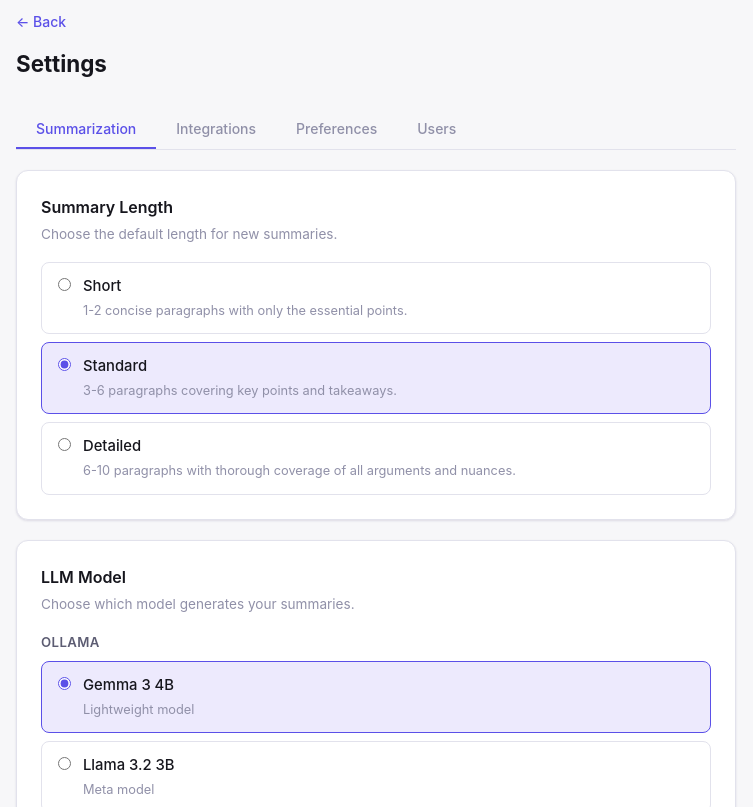
Test: Settings › should show users tab when isAdmin
Click the button "Users".
click(437, 129)  # box [397,110,476,149]
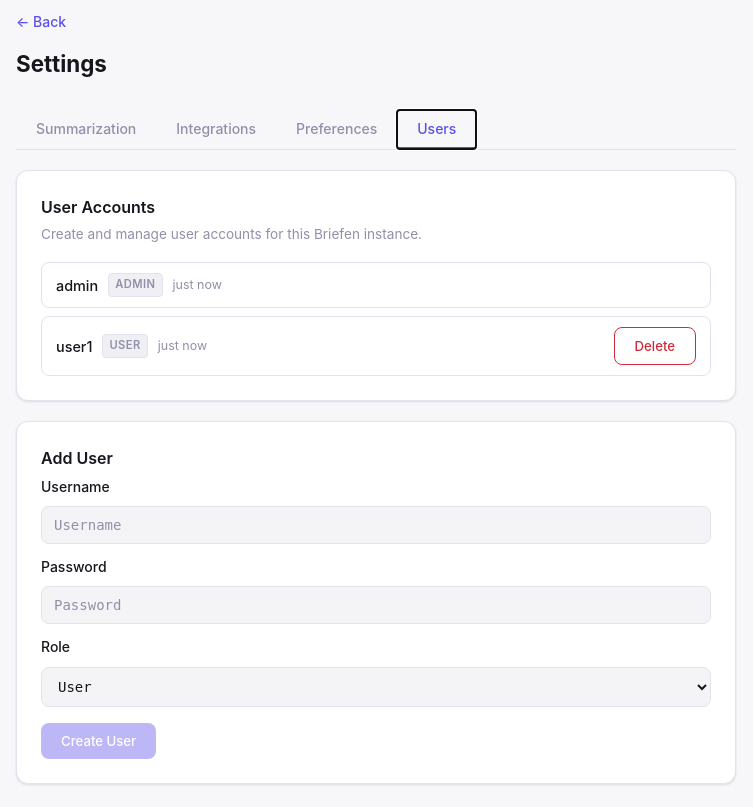
Result: the heading "User Accounts" is shown at [41,197,155,217]
Result: the text "admin" is shown at [56,274,98,297]
Result: the text "user1" is shown at [56,335,92,358]
